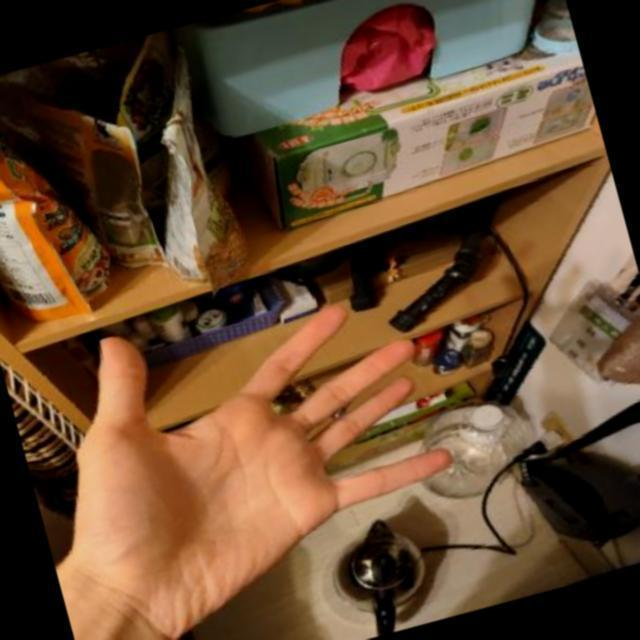hand: (8, 248, 493, 640)
